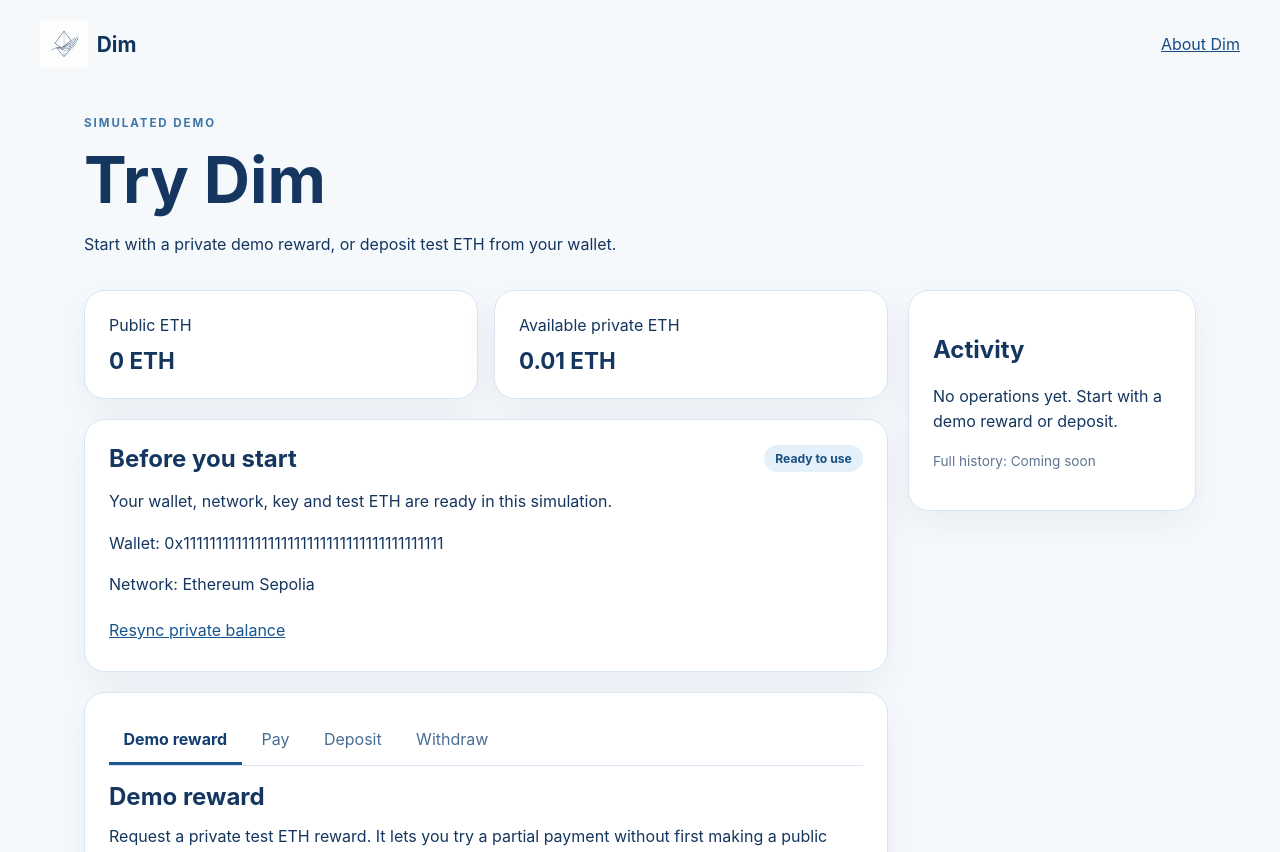
Test: starts blank and shows the Pay input, exact selected UTXO and quote conditions
Click the tab "Pay" at (276, 741), box [247,717,304,765]
(page scrolled)
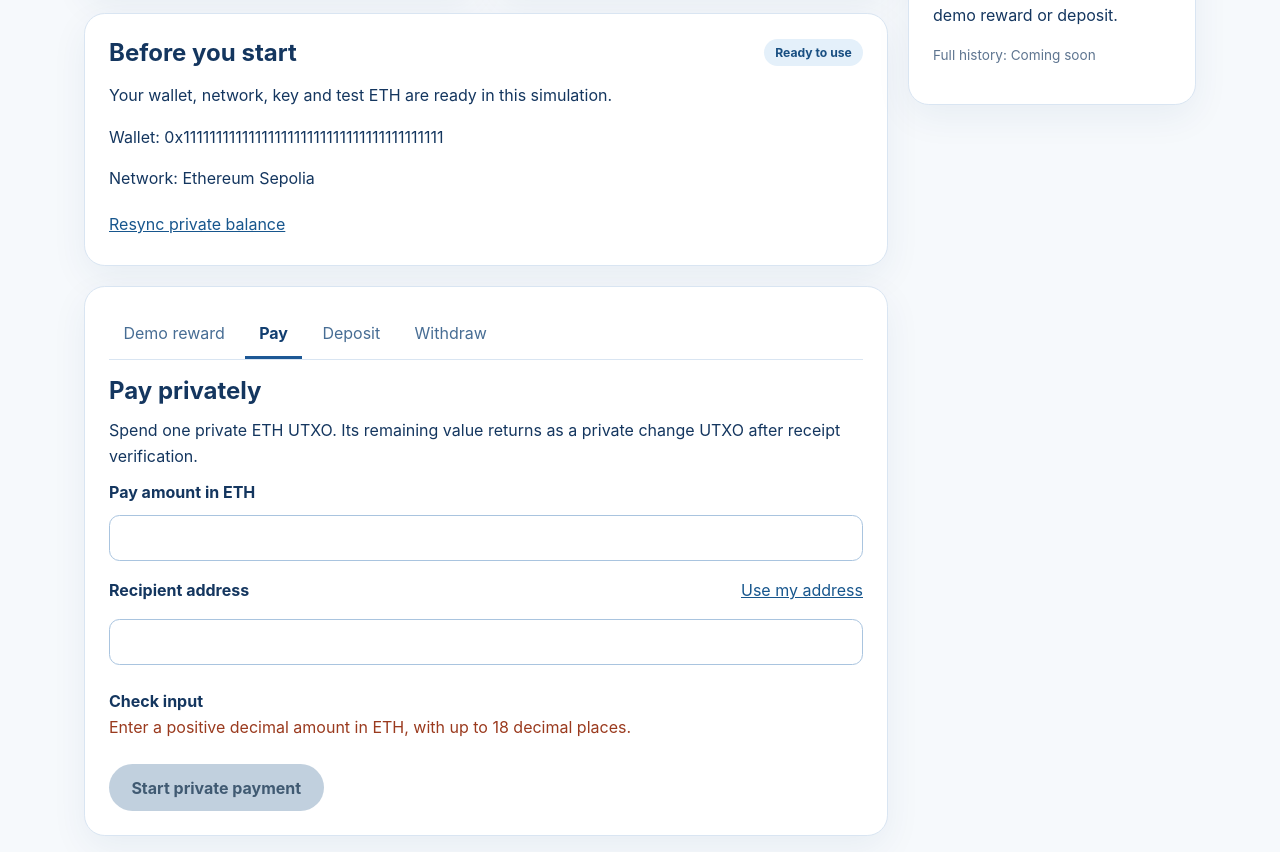
Now the field labelled "Pay amount in ETH" is empty
Type "0.003" into the field labelled "Pay amount in ETH" at (486, 538), box [109,515,863,561]
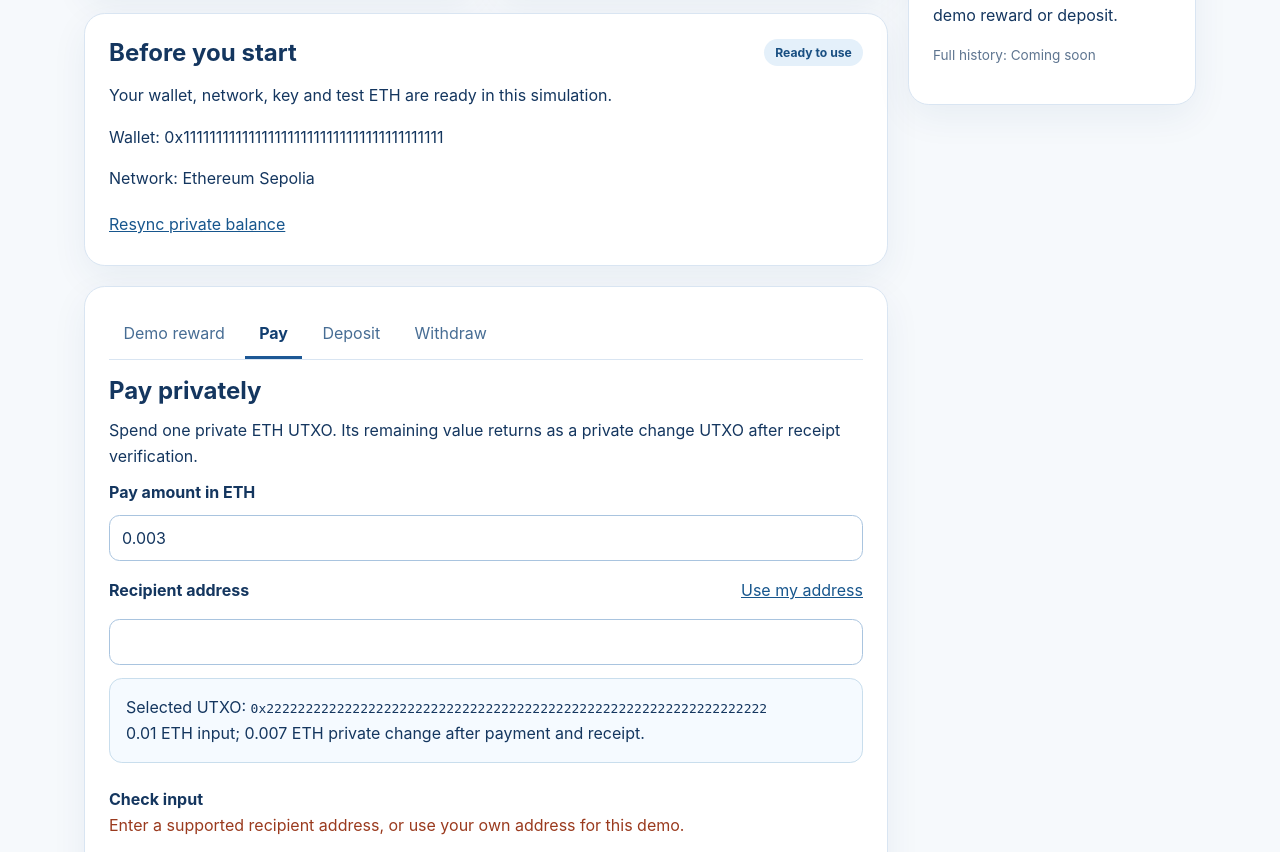
Click the button "Use my address" at (802, 590), box [741,574,863,606]
(page scrolled)
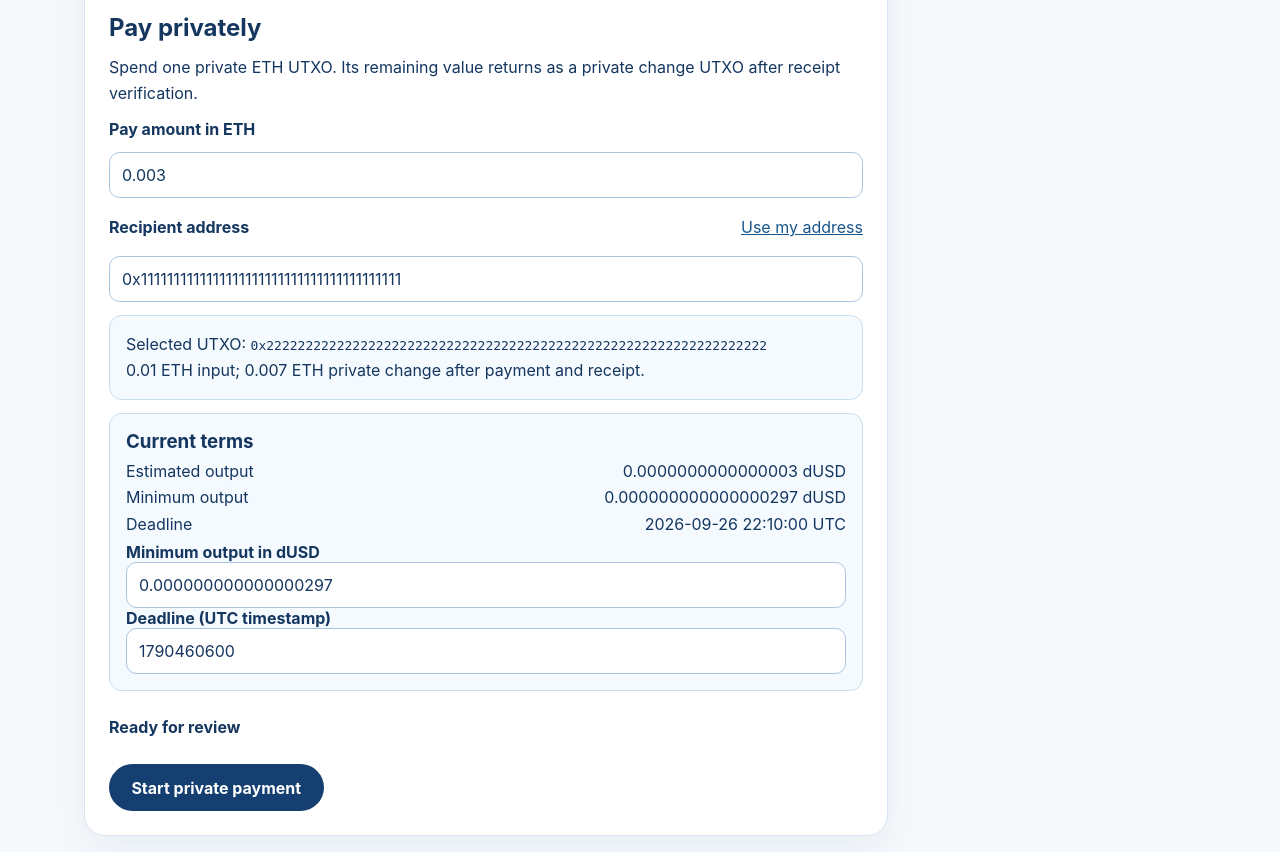
Now the text "Selected UTXO" is shown, box [126,334,251,354]
Now the field labelled "Recipient address" holds "0x1111111111111111111111111111111111111111", box [109,256,863,302]
Now the field labelled "Minimum output in dUSD" is shown, box [126,562,846,608]
